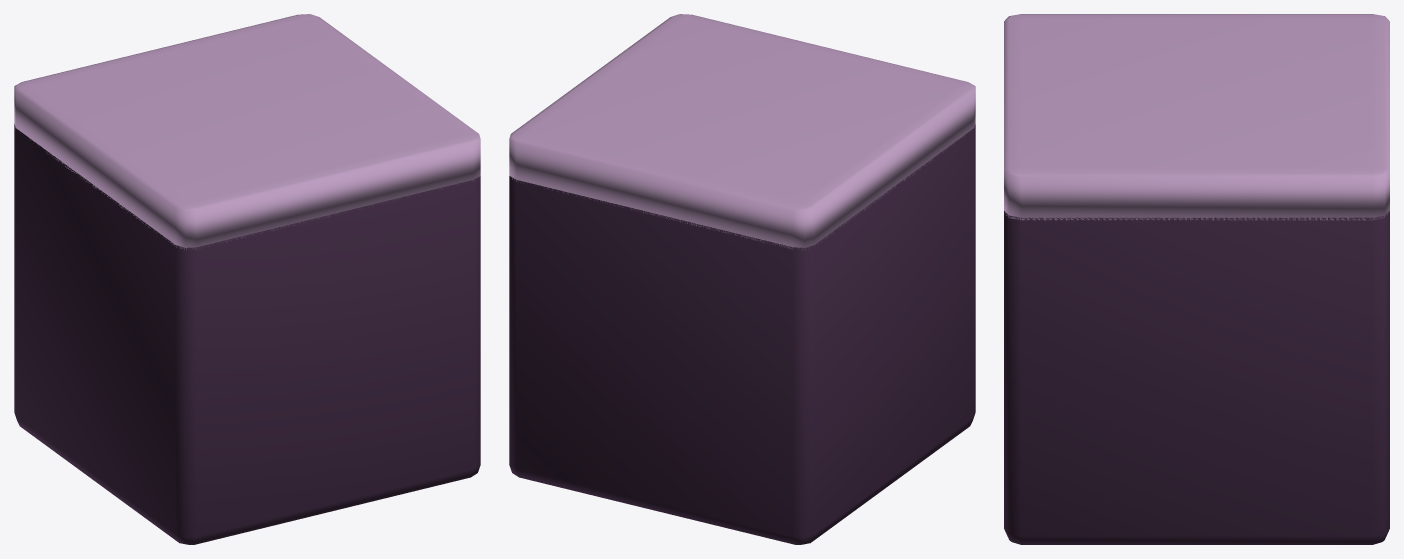
File: Plataforma.fbx
The picture shows the model from 3 angles, left to right: view 1: azimuth 30°, elevation 25°; view 2: azimuth 150°, elevation 25°; view 3: azimuth 270°, elevation 25°; orthographic projection. The views are drawn at different scales.
Visible parts, largest first — view 1: Cube, Cube.001; view 2: Cube, Cube.001; view 3: Cube, Cube.001.
Boxes of the visible parts, bbox=[...] form: Cube: bbox=[14, 124, 480, 544]; Cube.001: bbox=[14, 14, 480, 249]; Cube: bbox=[509, 124, 975, 544]; Cube.001: bbox=[509, 14, 975, 250]; Cube: bbox=[1004, 211, 1389, 544]; Cube.001: bbox=[1004, 14, 1389, 220].
Size of the model in its own units: 2 by 2.15 by 2.
